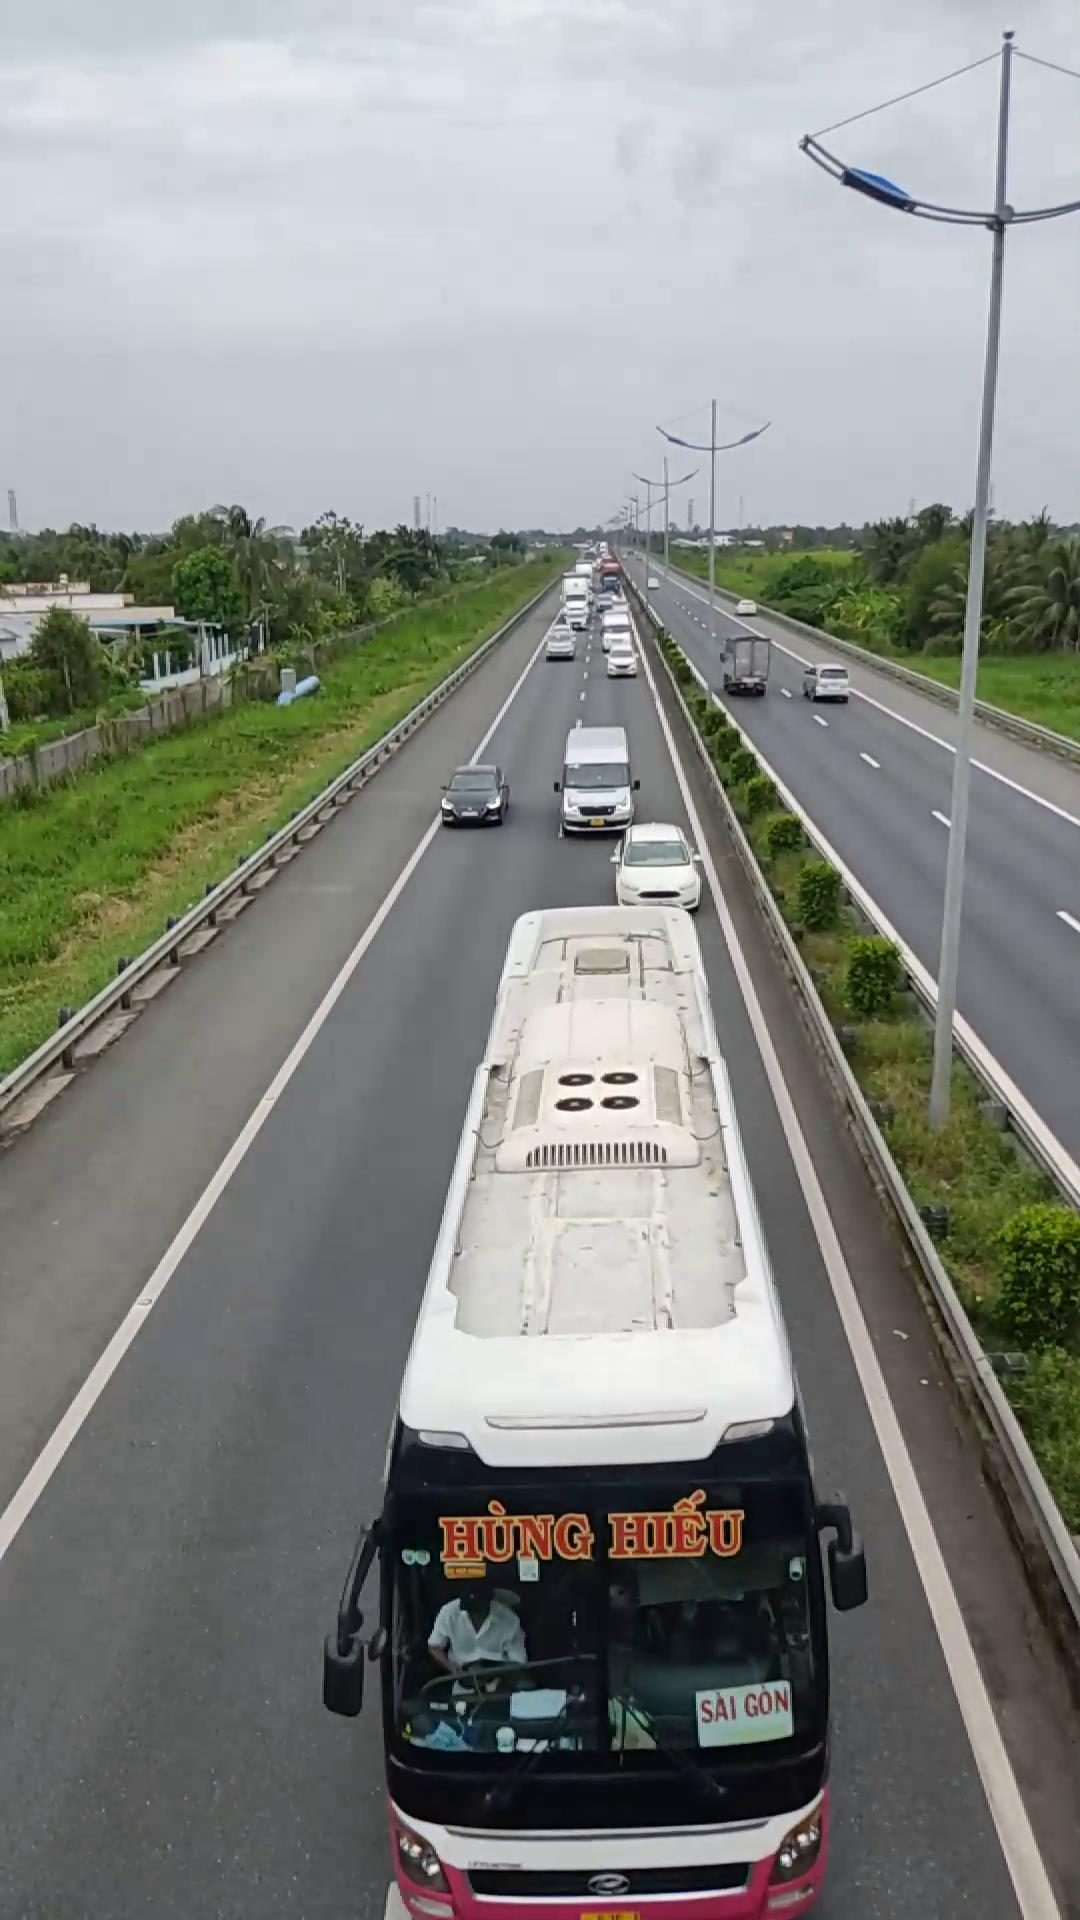bus: (376, 897, 851, 1890)
car: (556, 720, 638, 835), (439, 763, 509, 826)
